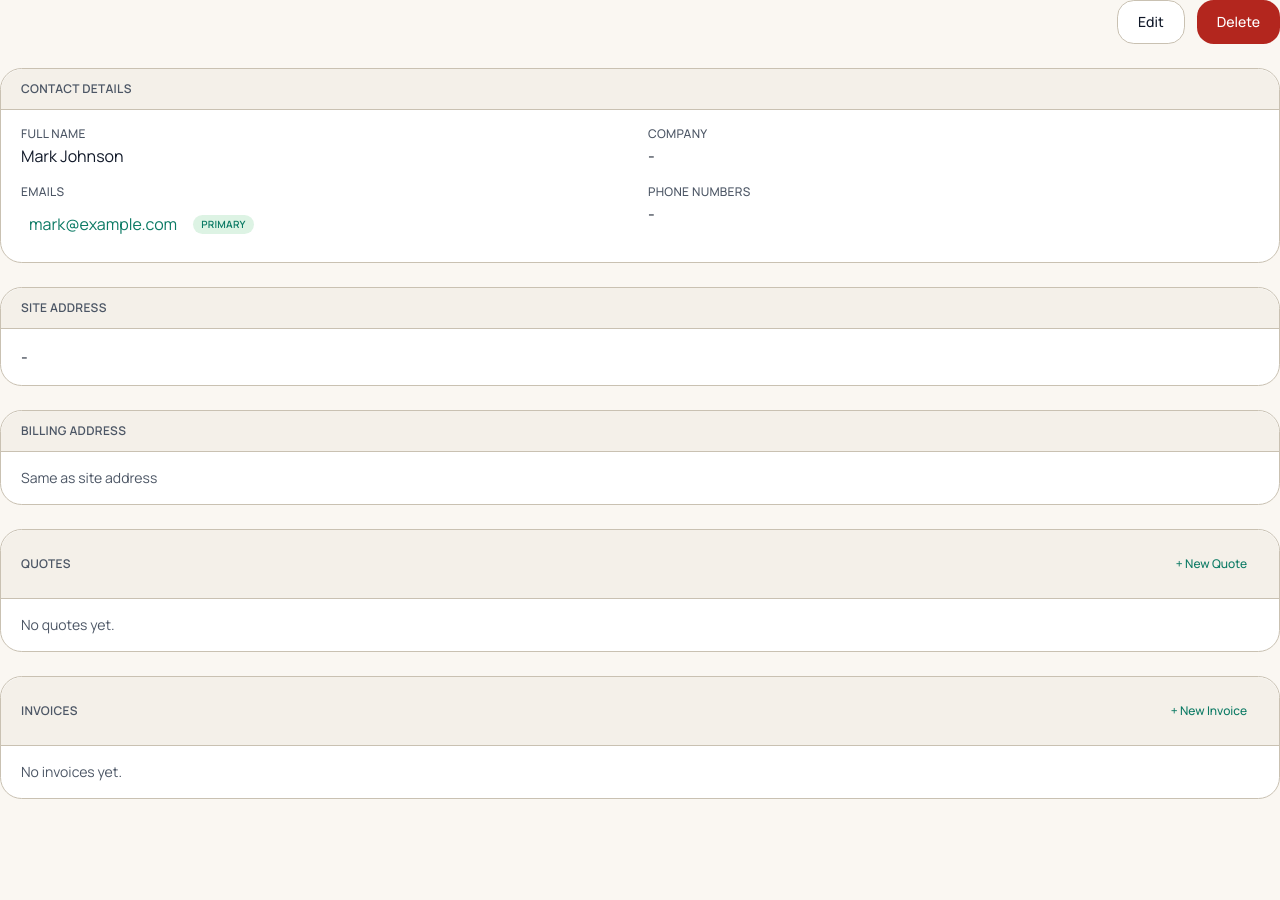
Test: CustomerDetail error conformance › uses focused rounded actions and ErrorAlert for delete failures
The image size is (1280, 900).
Click the button "Delete" at (1238, 22), box [1197,0,1279,44]
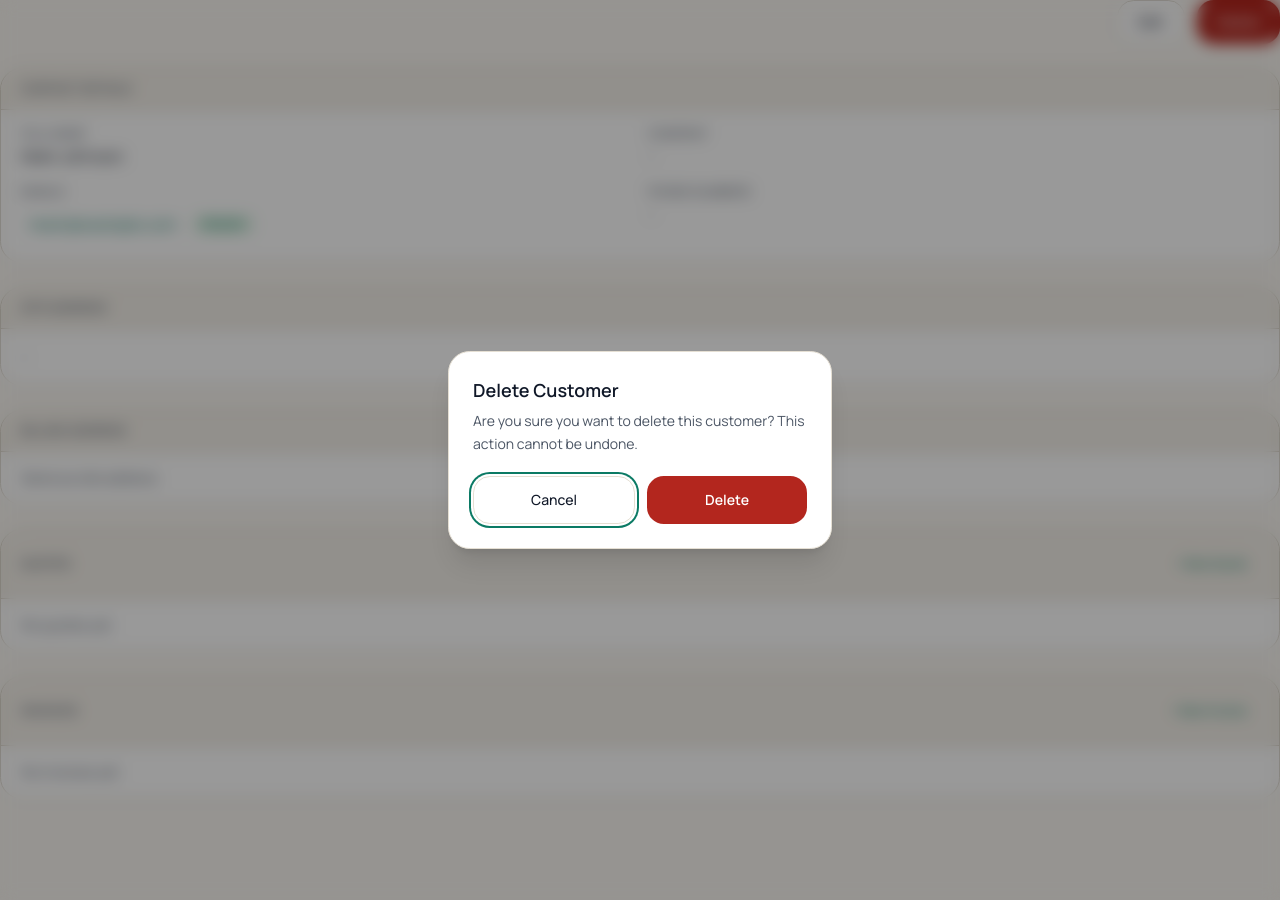
Click the button "Delete" at (727, 500), box [647,476,807,524]
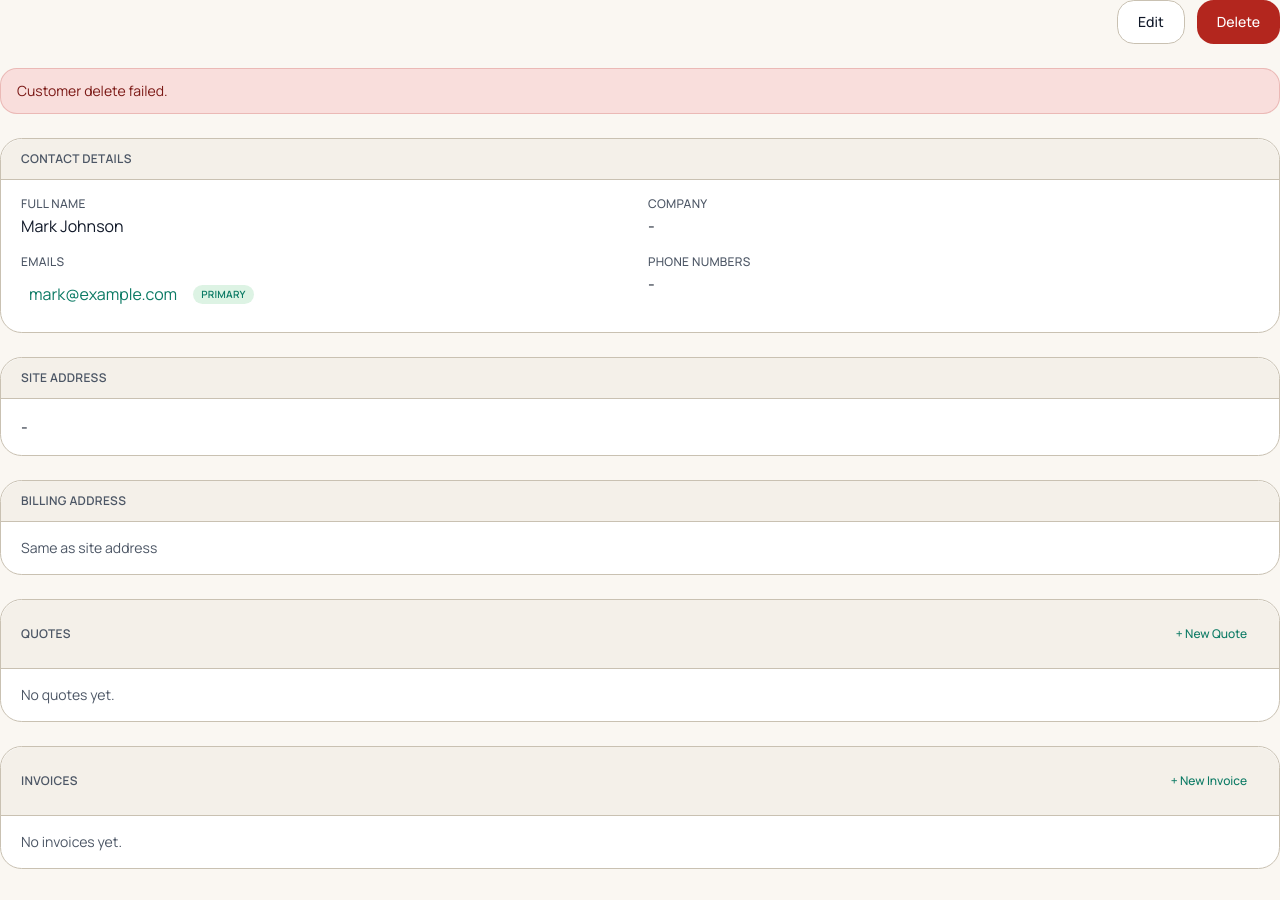
Expected: the message reads "Customer delete failed.", [17,81,168,100]
